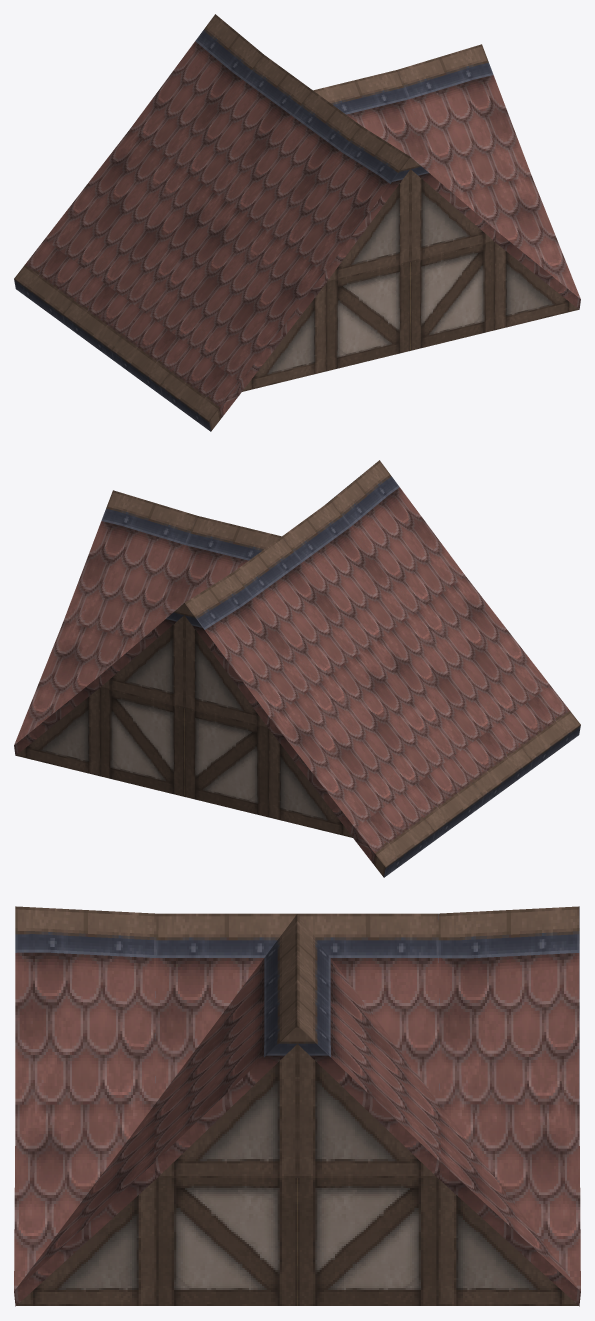
Rendered from roof_red_T.glb.
3 renders of one model, top to bottom at view 1: azimuth 30°, elevation 25°; view 2: azimuth 150°, elevation 25°; view 3: azimuth 270°, elevation 25°, orthographic. The views are drawn at different scales.
Visible parts, largest first — view 1: roof_red_T; view 2: roof_red_T; view 3: roof_red_T.
Part boxes in pixels (left/top/right/bottom): roof_red_T: left=14, top=14, right=580, bottom=431; roof_red_T: left=14, top=460, right=580, bottom=877; roof_red_T: left=14, top=906, right=580, bottom=1306.
Size of the model in its own units: 4.39 by 2.56 by 4.02.
Materials: 1 (1 with a texture image).
